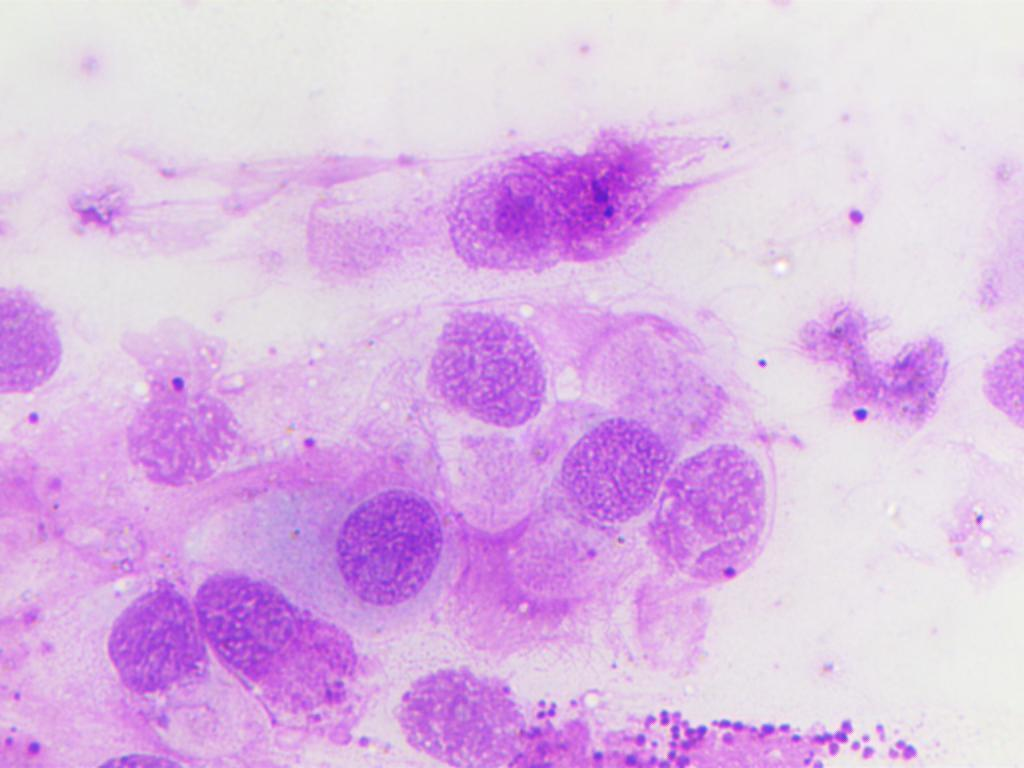artifact: (790, 269, 952, 436)
epithelial: (443, 131, 687, 275), (119, 309, 244, 490), (649, 436, 774, 594), (428, 308, 546, 430), (395, 661, 524, 767), (334, 487, 441, 605), (105, 580, 207, 693), (558, 418, 666, 523), (196, 570, 292, 682), (1, 276, 83, 402)
